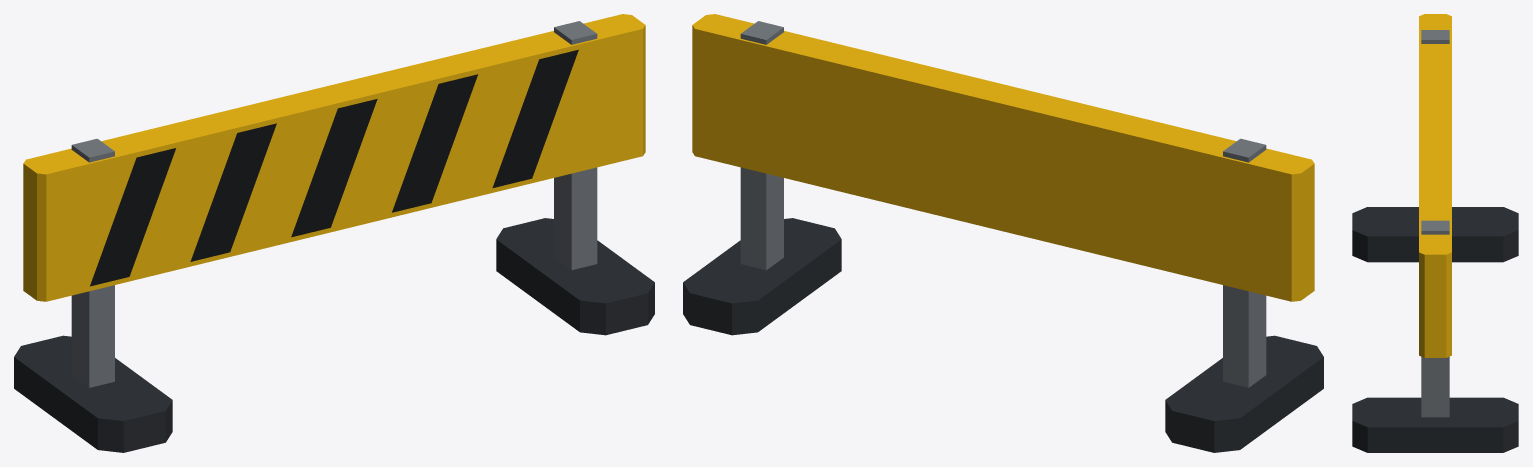
File: CONSTRUCTION_BARRIER_01.glb
3 renders of one model, left to right at view 1: azimuth 30°, elevation 25°; view 2: azimuth 150°, elevation 25°; view 3: azimuth 270°, elevation 25°, orthographic. The views are drawn at different scales.
Parts seen in each view (by area): view 1: CIVRUM_GAME_CONSTRUCTION_BARRIER_01; view 2: CIVRUM_GAME_CONSTRUCTION_BARRIER_01; view 3: CIVRUM_GAME_CONSTRUCTION_BARRIER_01.
Part boxes in pixels (<box>): CIVRUM_GAME_CONSTRUCTION_BARRIER_01: <box>14,14,654,452</box>; CIVRUM_GAME_CONSTRUCTION_BARRIER_01: <box>683,14,1323,452</box>; CIVRUM_GAME_CONSTRUCTION_BARRIER_01: <box>1352,14,1518,452</box>.
Bounding box in the file's own units: 2.6 × 1.07 × 0.76.
